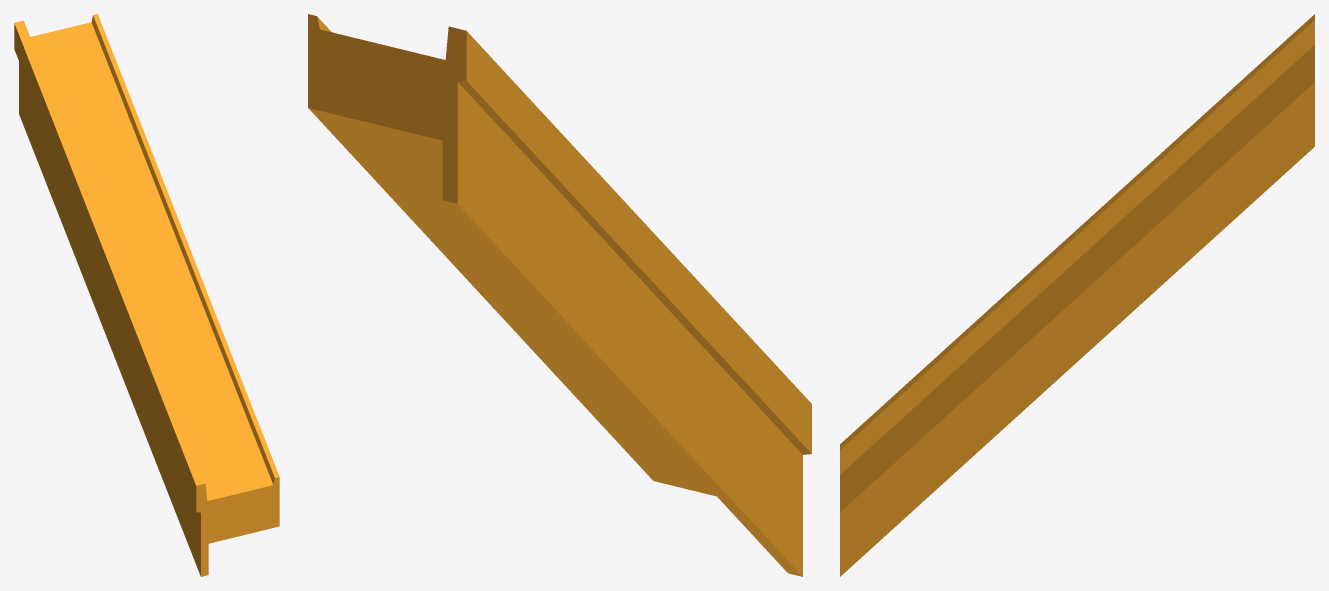
The model's file is SM_Roof_Metal_Regular_2m_Front.fbx.
The picture shows the model from 3 angles, left to right: view 1: azimuth 30°, elevation 25°; view 2: azimuth 150°, elevation 25°; view 3: azimuth 270°, elevation 25°; orthographic projection. The views are drawn at different scales.
Parts seen in each view (by area): view 1: roof-metal-regular-2m-front; view 2: roof-metal-regular-2m-front; view 3: roof-metal-regular-2m-front.
Boxes of the visible parts, <box> form: roof-metal-regular-2m-front: <box>14,14,279,576</box>; roof-metal-regular-2m-front: <box>308,14,811,576</box>; roof-metal-regular-2m-front: <box>840,14,1314,576</box>.
Size of the model in its own units: 0.53 by 2.56 by 2.
